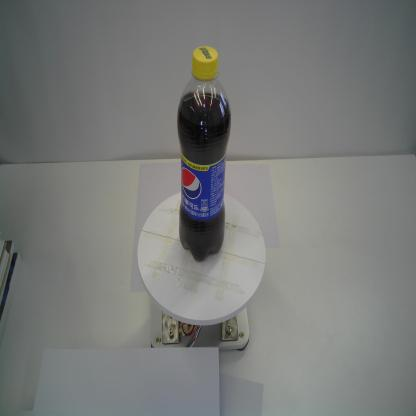Drink: (175, 44, 233, 264)
